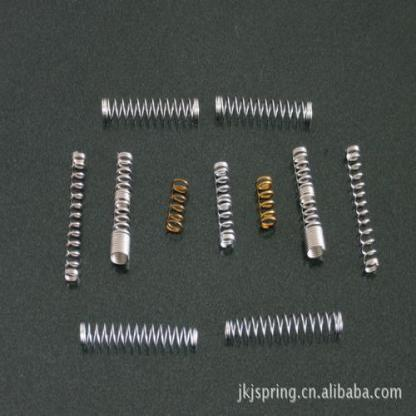FOD: (345, 141, 381, 278), (291, 144, 327, 266), (60, 150, 89, 287), (108, 149, 133, 271), (212, 158, 236, 255), (164, 175, 189, 237), (255, 172, 279, 234)
